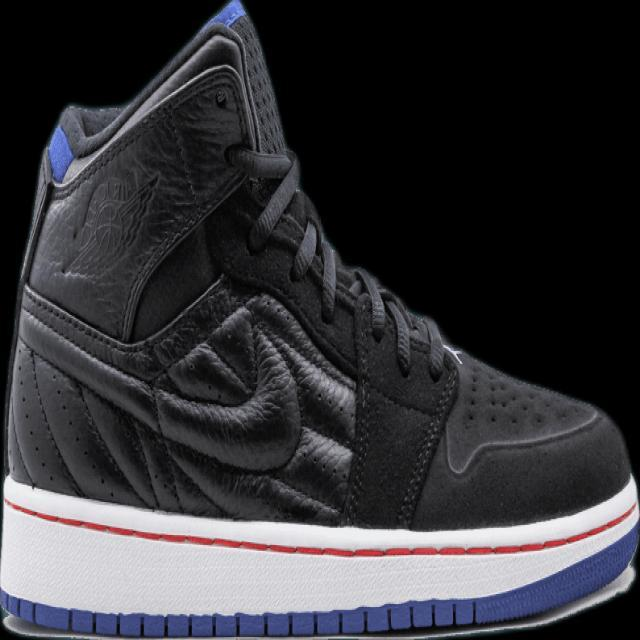J1_InsoleChar: (0, 0, 639, 639)
J1_StitchPattern: (8, 14, 364, 527), (0, 473, 639, 638), (8, 284, 359, 522), (215, 4, 341, 320), (342, 267, 461, 528), (1, 594, 479, 639), (230, 144, 341, 319), (393, 343, 462, 529), (60, 170, 161, 282)
